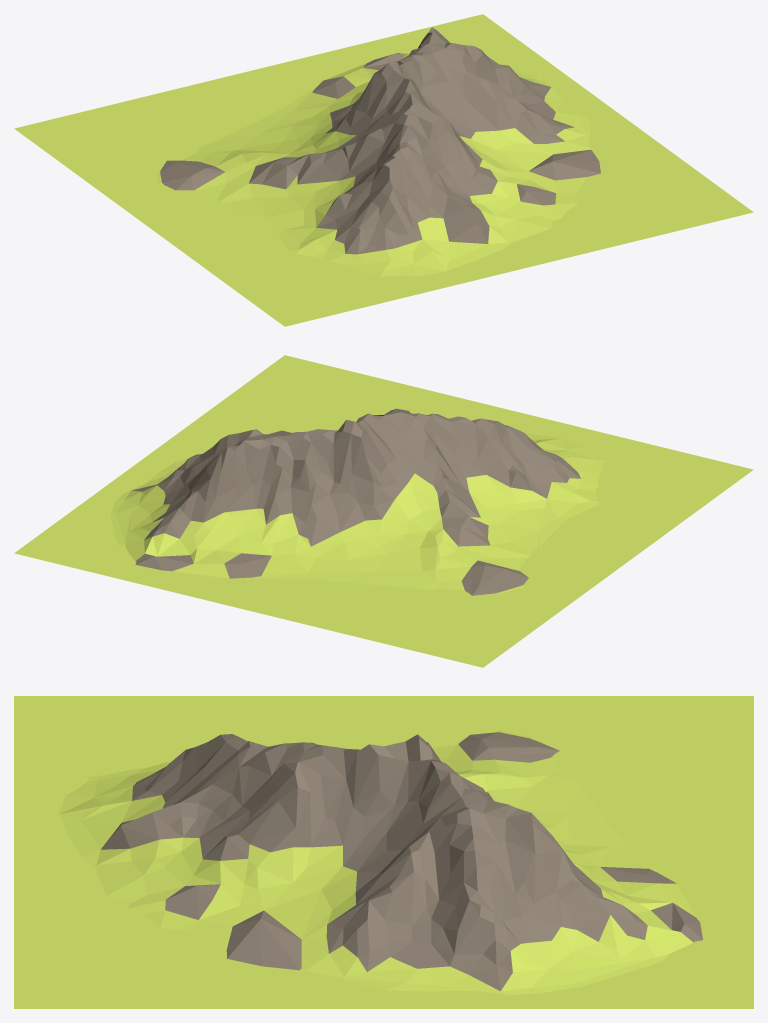
The model's file is DistantMoutain.fbx.
3 views of the same model, one above another, from view 1: azimuth 30°, elevation 25°; view 2: azimuth 150°, elevation 25°; view 3: azimuth 270°, elevation 25° (orthographic). The views are drawn at different scales.
Visible parts, largest first — view 1: Moutain, Ground; view 2: Moutain, Ground; view 3: Moutain, Ground.
Part boxes in pixels (bbox=[...]): Moutain: bbox=[156, 27, 600, 277]; Ground: bbox=[14, 14, 753, 326]; Moutain: bbox=[110, 408, 604, 595]; Ground: bbox=[14, 355, 753, 667]; Moutain: bbox=[59, 730, 702, 994]; Ground: bbox=[14, 696, 753, 1008].
Bounding box in the file's own units: 600 × 119 × 600.
